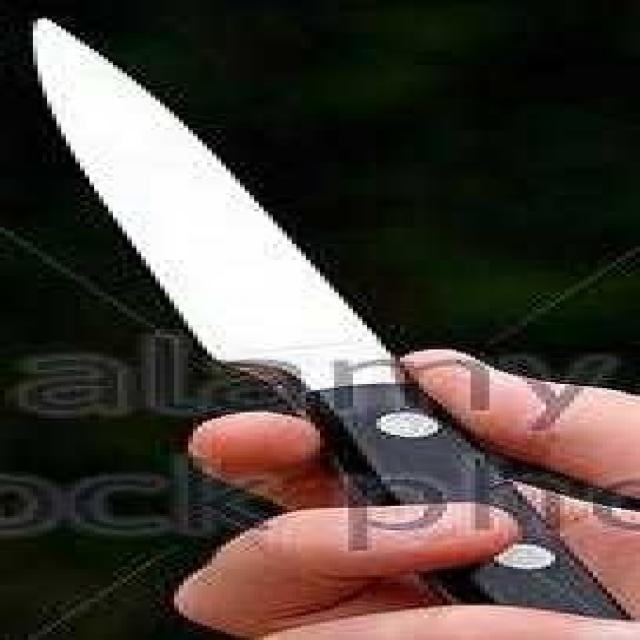Knife: (21, 16, 640, 632)
